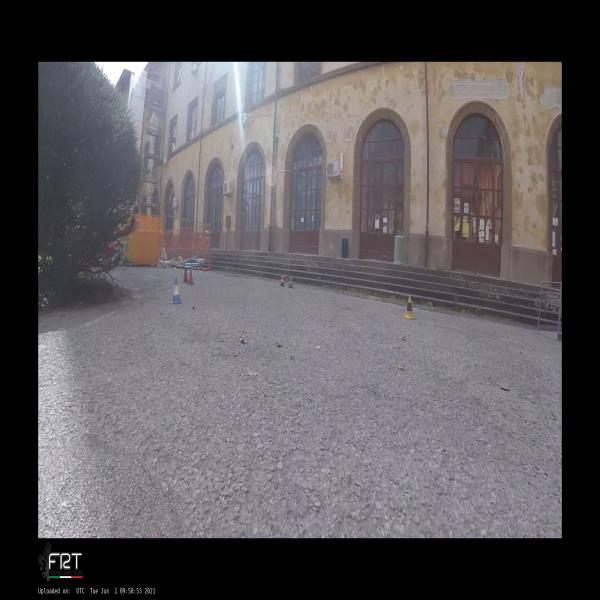blue_cone: (169, 278, 183, 304)
large_orange_cone: (287, 275, 294, 288), (279, 273, 285, 287)
unknown_cone: (187, 268, 195, 286), (182, 268, 189, 283)
yellow_cone: (402, 295, 416, 320)
